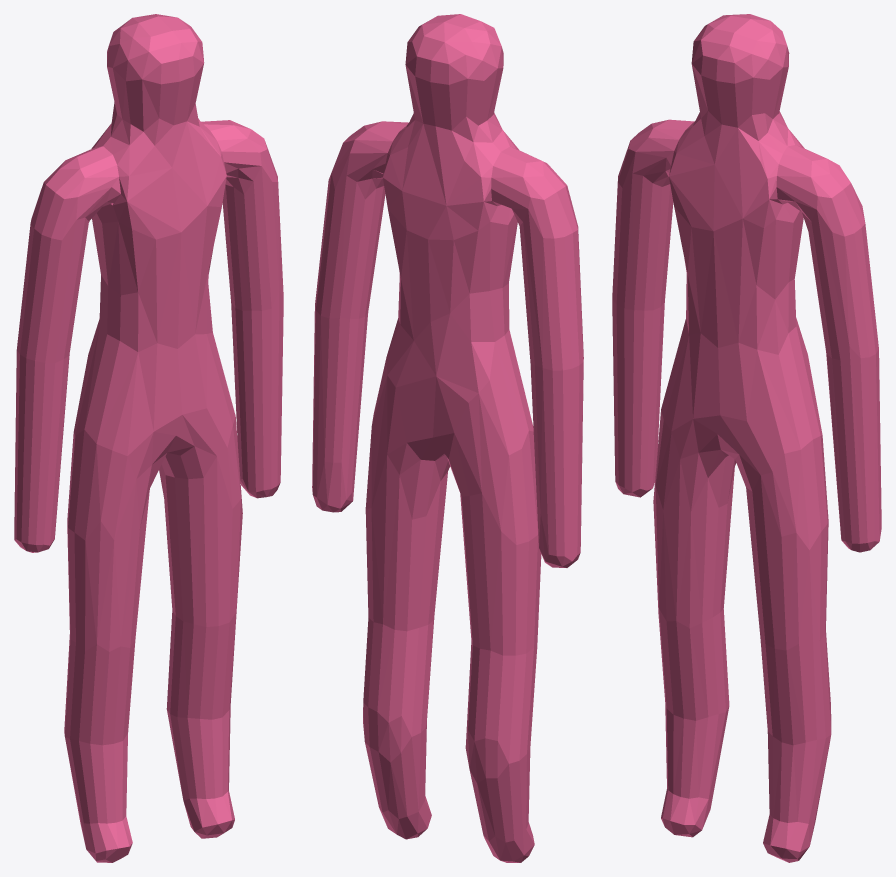
Rendered from personaje_v1.0.glb.
The picture shows the model from 3 angles, left to right: view 1: azimuth 30°, elevation 25°; view 2: azimuth 150°, elevation 25°; view 3: azimuth 330°, elevation 25°; orthographic projection.
Visible parts, largest first — view 1: PersonajeLowPoly; view 2: PersonajeLowPoly; view 3: PersonajeLowPoly.
Boxes of the visible parts, box(x1,y1,x2,y2) form: PersonajeLowPoly: box(14, 14, 283, 862); PersonajeLowPoly: box(312, 14, 583, 862); PersonajeLowPoly: box(612, 14, 881, 862).
Bounding box in the file's own units: 0.5849 × 1.77 × 0.2036.
